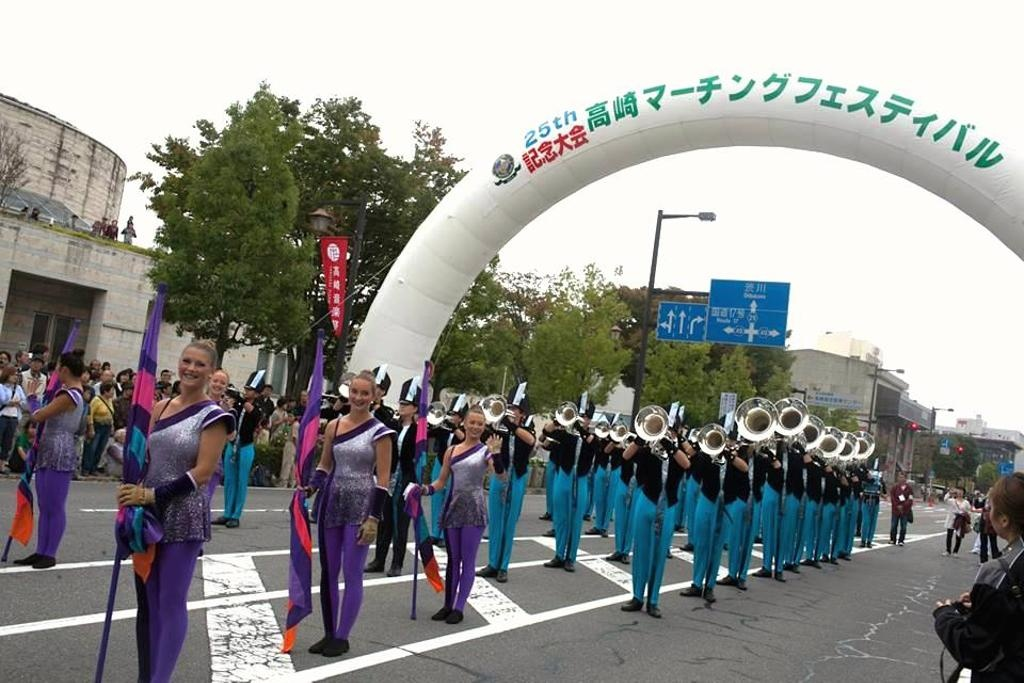human_face: (178, 348, 210, 386), (988, 502, 1012, 536), (350, 383, 372, 409), (656, 426, 674, 448), (466, 414, 482, 437), (210, 374, 226, 392), (399, 397, 415, 414), (242, 383, 258, 396), (428, 408, 440, 424), (508, 409, 518, 426), (450, 409, 460, 423), (6, 370, 16, 382), (160, 370, 170, 382), (0, 354, 9, 366), (32, 358, 42, 368), (103, 372, 111, 384), (20, 352, 28, 362), (38, 350, 46, 360), (80, 370, 88, 380), (92, 361, 100, 371), (120, 372, 128, 382), (106, 385, 112, 397), (164, 385, 172, 394), (84, 388, 90, 399), (300, 392, 308, 400), (132, 375, 138, 385), (542, 413, 548, 423), (123, 390, 131, 397), (264, 386, 270, 395), (860, 457, 866, 466), (19, 342, 25, 350), (290, 399, 296, 407), (898, 475, 904, 483), (956, 487, 962, 495), (288, 412, 292, 420), (282, 402, 286, 408), (112, 220, 116, 226), (72, 217, 76, 221), (33, 209, 37, 213), (128, 222, 130, 227), (102, 219, 104, 223)
